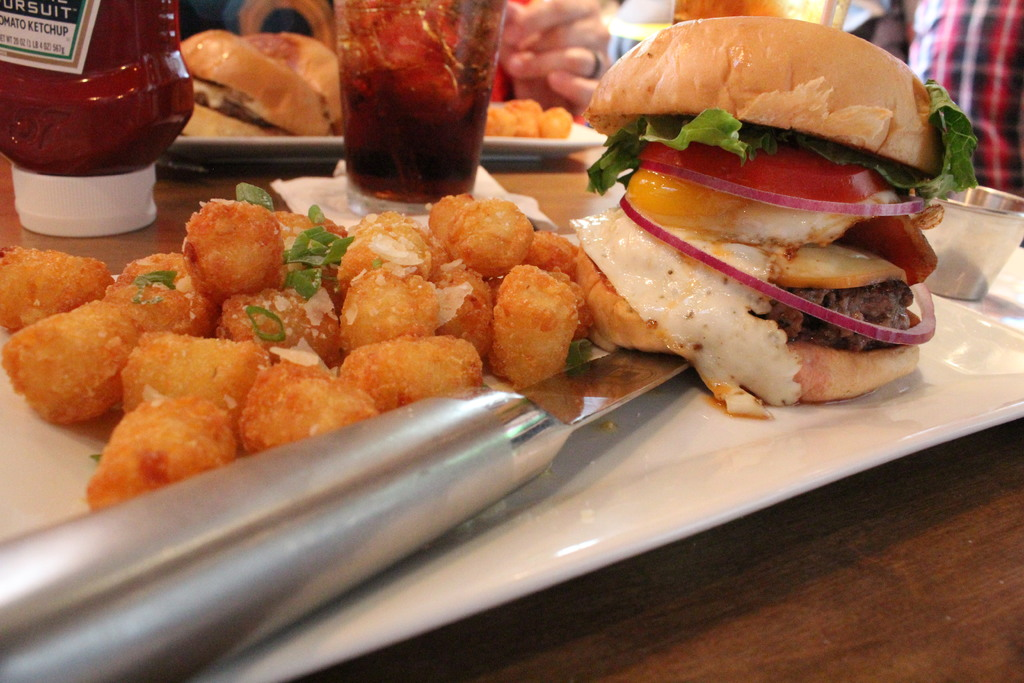Hamburger: (566, 17, 977, 408), (179, 33, 348, 135)
